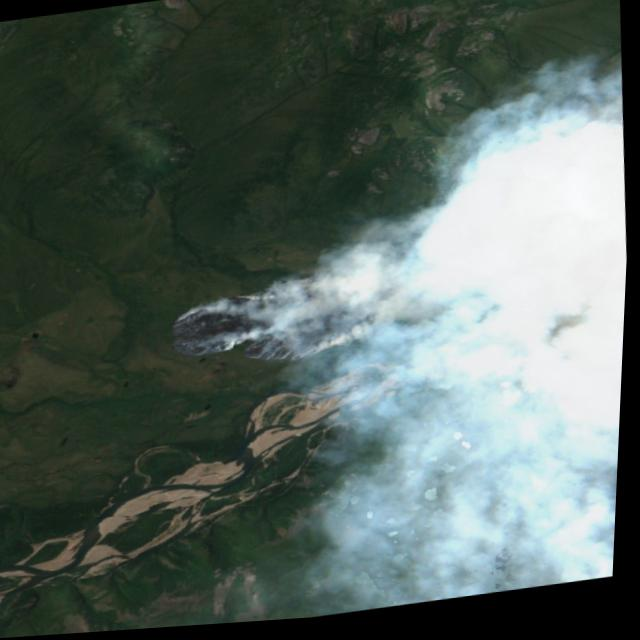fire: (163, 258, 441, 386)
